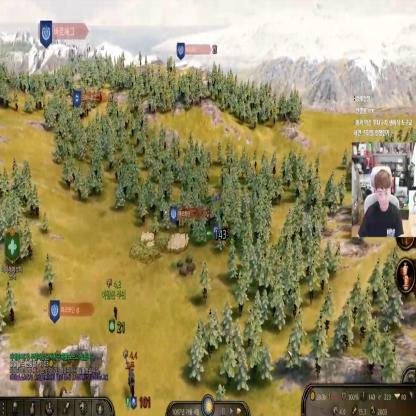streamer: (358, 170, 406, 236)
